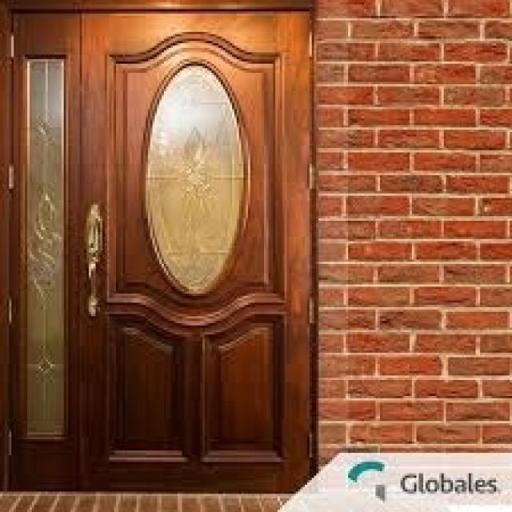door: (3, 4, 318, 494)
